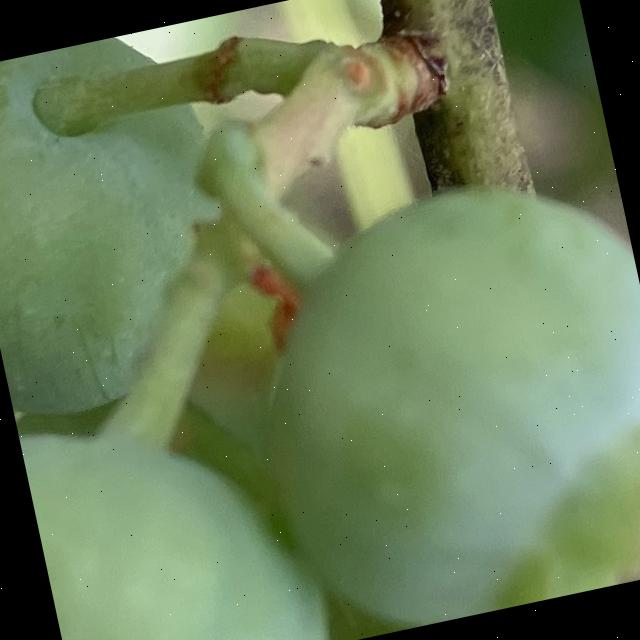Blueberries: (211, 149, 640, 640), (8, 334, 344, 640)
